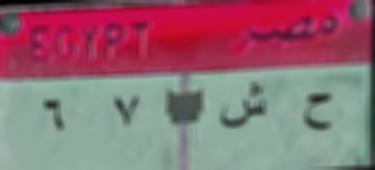6: (39, 94, 68, 133)
7: (109, 93, 144, 132)
7aa: (300, 86, 335, 138)
sheen: (216, 79, 270, 134)
